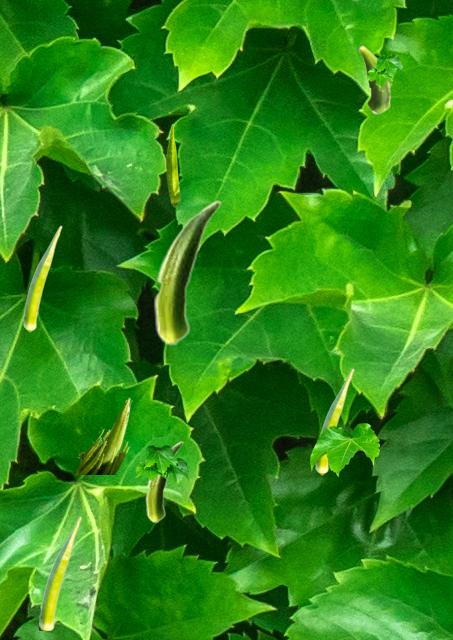okra: (153, 200, 220, 345), (39, 516, 80, 629), (75, 397, 131, 473), (315, 368, 353, 474), (23, 225, 61, 331), (145, 441, 182, 522), (358, 45, 390, 113), (166, 124, 179, 205)
